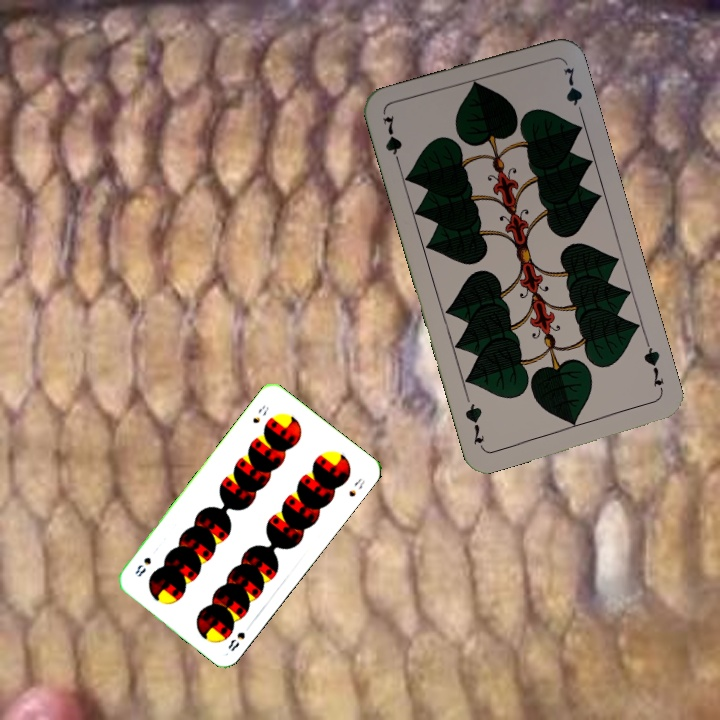G7: (640, 338, 667, 396), (379, 111, 405, 170)
S8: (224, 620, 254, 654), (248, 401, 271, 426)
